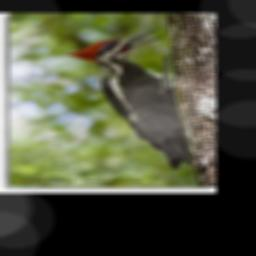Woodpecker: (65, 29, 193, 170)
